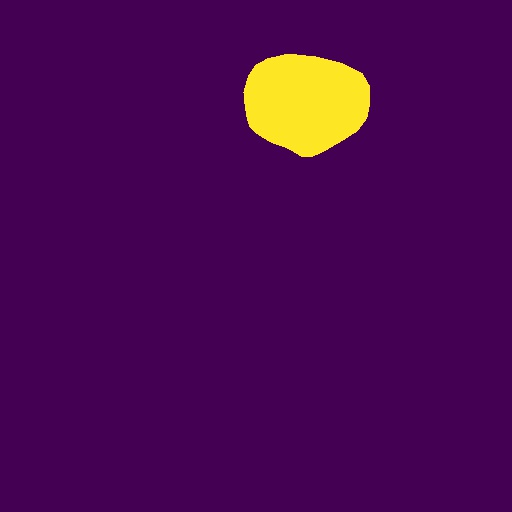Menigiomia_tumour: (243, 54, 370, 157)
